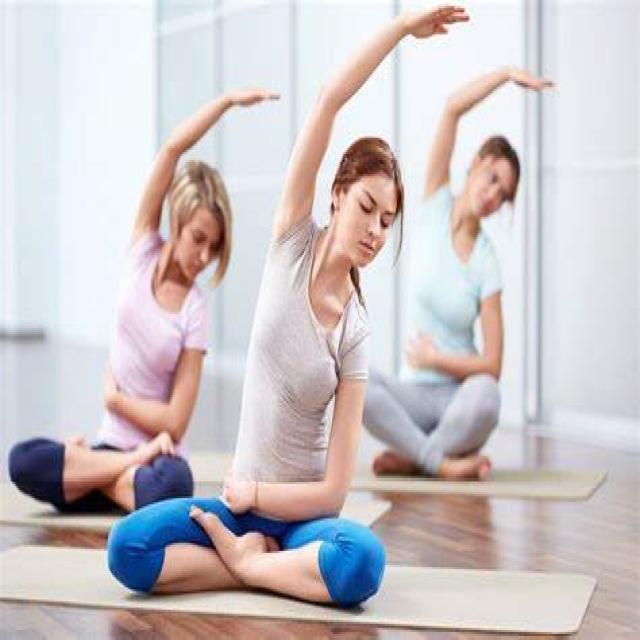sit: (106, 126, 414, 600), (15, 152, 222, 524), (357, 124, 531, 488)
